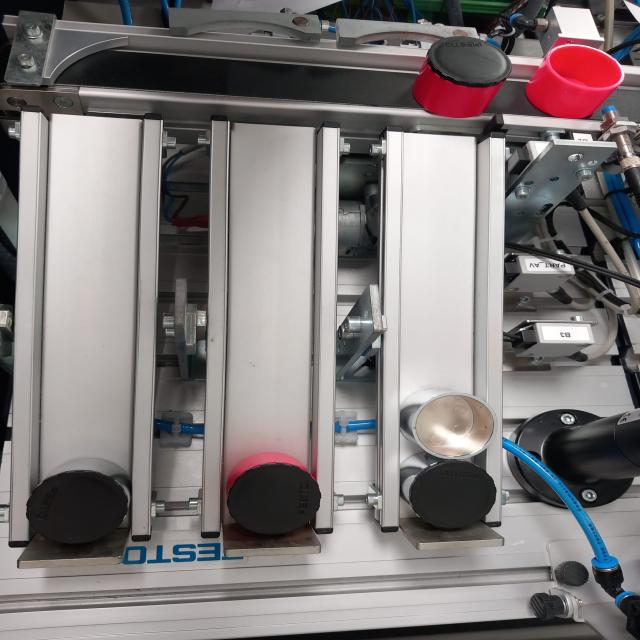NoLid: (386, 388, 506, 467), (527, 35, 631, 117)
Workpiece: (26, 446, 139, 550), (412, 24, 514, 125), (226, 441, 326, 544), (391, 463, 504, 539)
